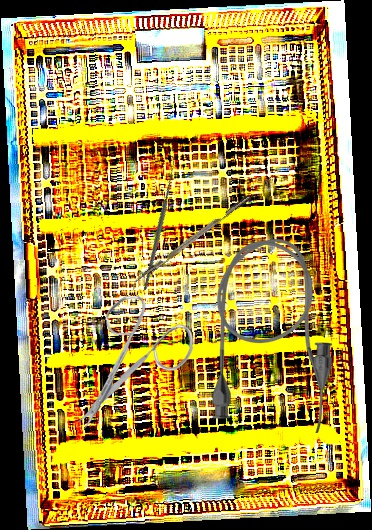Cannula: (212, 238, 332, 433)
Chopper: (127, 194, 256, 293)
Hook Surgical: (90, 154, 225, 291)
Iris Scissors: (71, 293, 197, 431)
